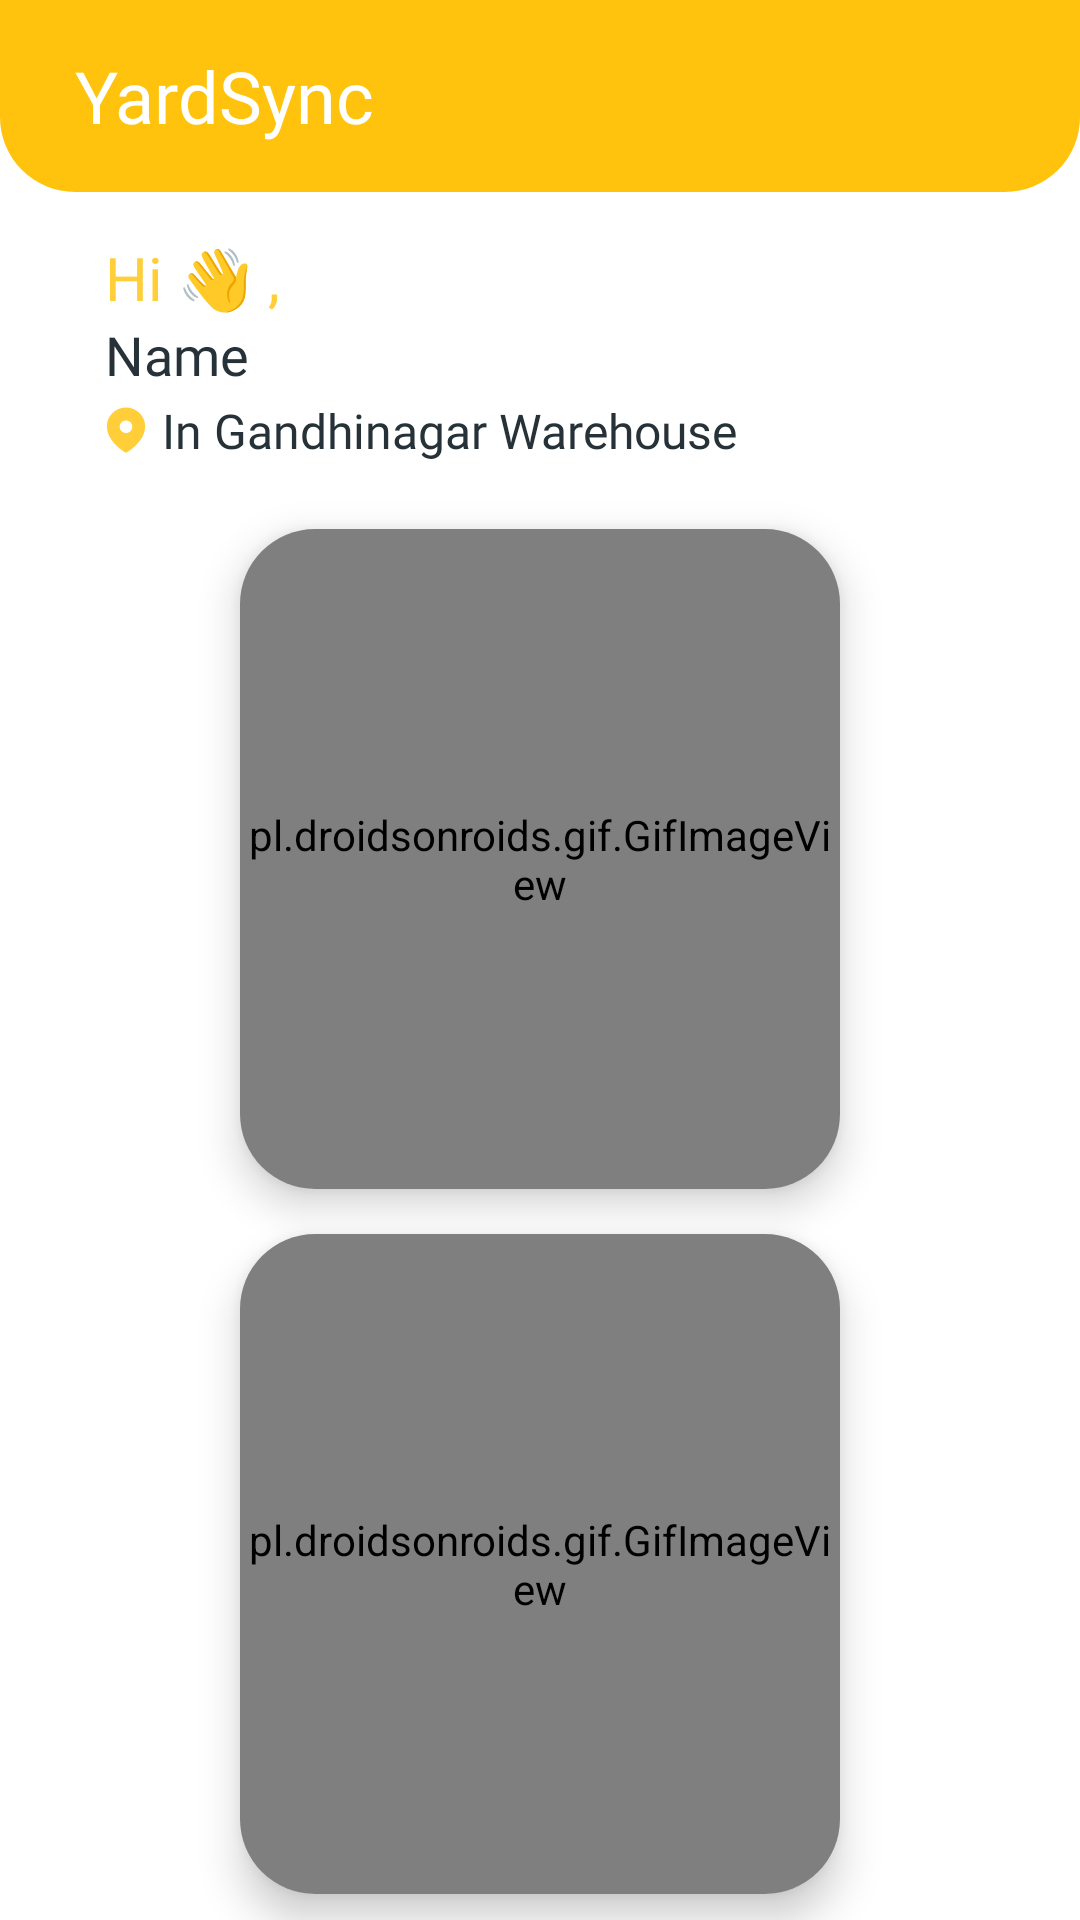

Where to tap for icons on this 1080 × 1920 app screen, as [x,y]:
location: [126,430]
